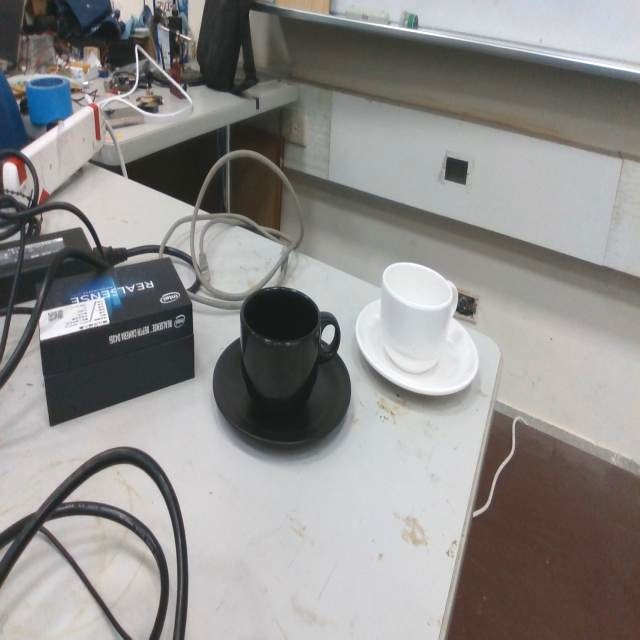black: (210, 283, 354, 457)
white: (354, 259, 482, 402)
